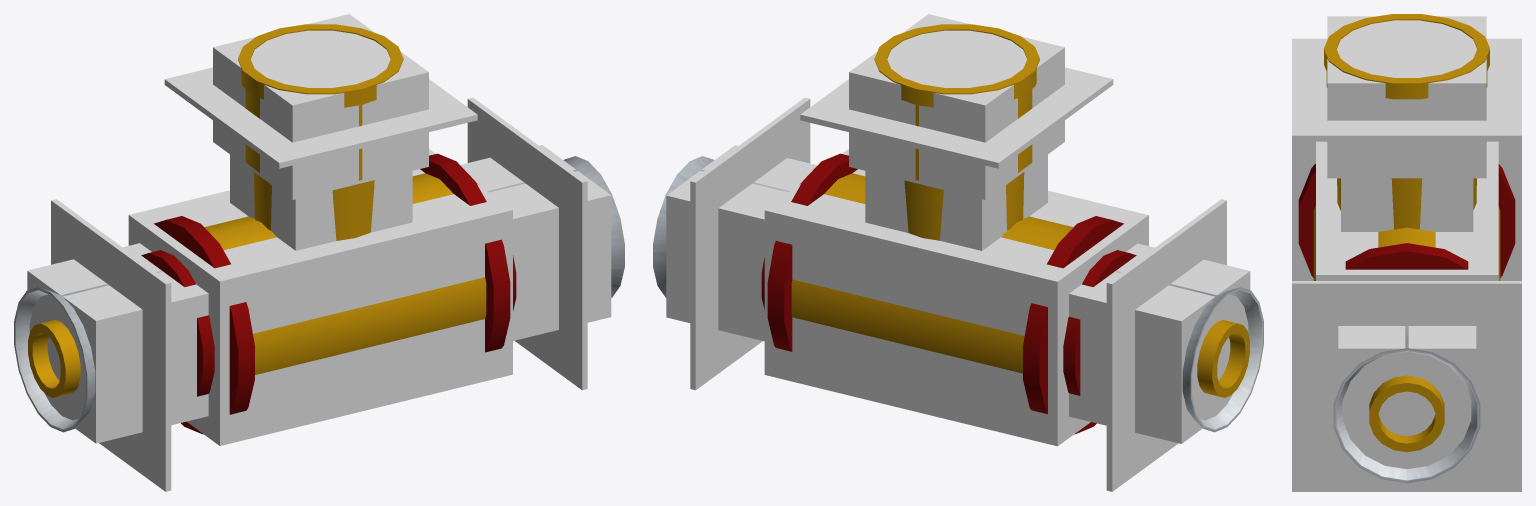
3 renders of one model, left to right at view 1: azimuth 30°, elevation 25°; view 2: azimuth 150°, elevation 25°; view 3: azimuth 270°, elevation 25°, orthographic.
Parts seen in each view (by area): view 1: tronik_20х1/2(vn)х20_COL_, tronik_20х1/2х20_vn_, Box001_est_020, Box001_est_019, Box001_est_021; view 2: tronik_20х1/2(vn)х20_COL_, tronik_20х1/2х20_vn_, Box001_est_020, Box001_est_019, Box001_est_021; view 3: tronik_20х1/2(vn)х20_COL_, Box001_est_019, tronik_20х1/2х20_vn_, Box001_est_021, Box001_est_020.
Part boxes in pixels (x1=…): tronik_20х1/2(vn)х20_COL_: x1=27, y1=14, x2=611, y2=445; tronik_20х1/2х20_vn_: x1=14, y1=24, x2=624, y2=434; Box001_est_020: x1=51, y1=199, x2=171, y2=491; Box001_est_019: x1=467, y1=97, x2=587, y2=390; Box001_est_021: x1=164, y1=67, x2=477, y2=168; tronik_20х1/2(vn)х20_COL_: x1=666, y1=14, x2=1250, y2=446; tronik_20х1/2х20_vn_: x1=653, y1=24, x2=1263, y2=434; Box001_est_020: x1=1106, y1=199, x2=1226, y2=491; Box001_est_019: x1=690, y1=97, x2=810, y2=390; Box001_est_021: x1=800, y1=67, x2=1113, y2=168; tronik_20х1/2(vn)х20_COL_: x1=1316, y1=16, x2=1498, y2=470; Box001_est_019: x1=1292, y1=281, x2=1521, y2=491; tronik_20х1/2х20_vn_: x1=1298, y1=14, x2=1515, y2=483; Box001_est_021: x1=1292, y1=38, x2=1521, y2=141; Box001_est_020: x1=1292, y1=141, x2=1521, y2=280.
Size of the model in its own units: 0.099 by 0.0589 by 0.036.
3 materials, 1 textured.
